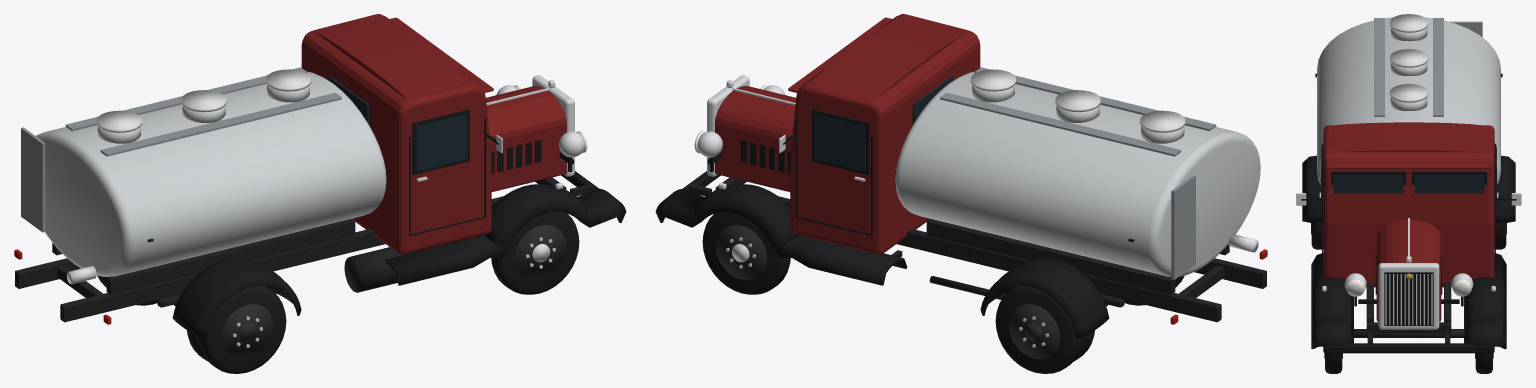
Rendered from witcombe_oil_tanker.glb.
3 renders of one model, left to right at view 1: azimuth 30°, elevation 25°; view 2: azimuth 150°, elevation 25°; view 3: azimuth 270°, elevation 25°, orthographic. The views are drawn at different scales.
Parts seen in each view (by area): view 1: tanque, cabine, paralama_d.001, teto_abaulado, capo, paralama_t.001, longarina.001, berco.001, roda_t_pneu0.001, roda_d_pneu0.001, janela_lateral.001, escada (+14 smaller); view 2: tanque, cabine, paralama_d, teto_abaulado, capo, paralama_t, longarina, berco, roda_t_pneu1, roda_d_pneu0, janela_lateral, escada (+13 smaller); view 3: cabine, tanque, teto_abaulado, paralama_d, paralama_d.001, capo, radiador_colmeia, para_choque, radiador_moldura, parabrisa, parabrisa.001, paralama_t (+25 smaller).
Part boxes in pixels (bbox=[...]): tanque: bbox=[36, 71, 386, 276]; cabine: bbox=[301, 14, 491, 254]; paralama_d.001: bbox=[385, 184, 626, 285]; teto_abaulado: bbox=[315, 17, 475, 104]; capo: bbox=[486, 86, 566, 191]; paralama_t.001: bbox=[172, 258, 301, 338]; longarina.001: bbox=[60, 196, 503, 322]; berco.001: bbox=[106, 219, 355, 294]; roda_t_pneu0.001: bbox=[198, 285, 286, 373]; roda_d_pneu0.001: bbox=[491, 212, 579, 294]; janela_lateral.001: bbox=[416, 114, 467, 171]; escada: bbox=[21, 127, 45, 232]; tanque: bbox=[895, 71, 1260, 276]; cabine: bbox=[790, 14, 980, 254]; paralama_d: bbox=[655, 184, 907, 285]; teto_abaulado: bbox=[806, 17, 966, 104]; capo: bbox=[715, 86, 795, 191]; paralama_t: bbox=[980, 258, 1109, 338]; longarina: bbox=[778, 196, 1221, 322]; berco: bbox=[926, 219, 1175, 294]; roda_t_pneu1: bbox=[995, 285, 1083, 373]; roda_d_pneu0: bbox=[702, 212, 790, 294]; janela_lateral: bbox=[814, 114, 865, 171]; escada: bbox=[1171, 175, 1195, 279]; cabine: bbox=[1323, 125, 1494, 287]; tanque: bbox=[1317, 17, 1500, 184]; teto_abaulado: bbox=[1324, 122, 1493, 154]; paralama_d: bbox=[1464, 253, 1506, 349]; paralama_d.001: bbox=[1311, 253, 1353, 349]; capo: bbox=[1376, 220, 1441, 321]; radiador_colmeia: bbox=[1384, 272, 1433, 325]; para_choque: bbox=[1323, 343, 1494, 353]; radiador_moldura: bbox=[1378, 263, 1439, 329]; parabrisa: bbox=[1414, 175, 1484, 193]; parabrisa.001: bbox=[1333, 175, 1403, 193]; paralama_t: bbox=[1494, 155, 1515, 222].
Bounding box in the file's own units: 5.69 × 2.34 × 2.45.
